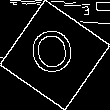O_S: (29, 26, 81, 84)
